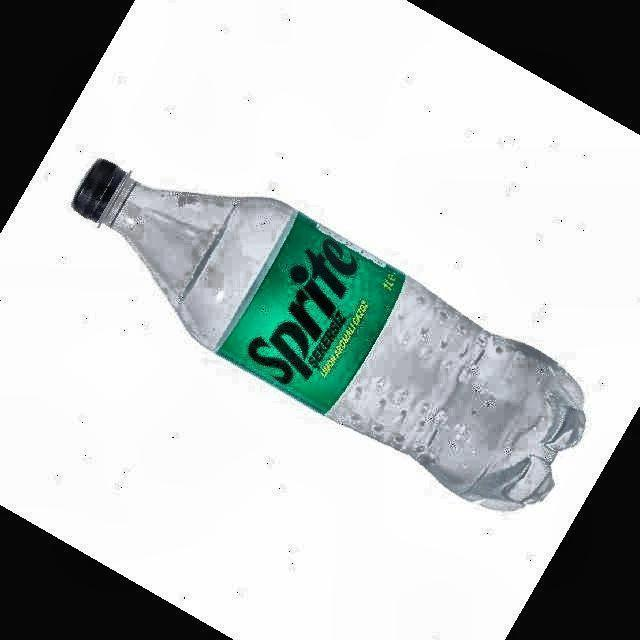plastic: (72, 159, 584, 510)
